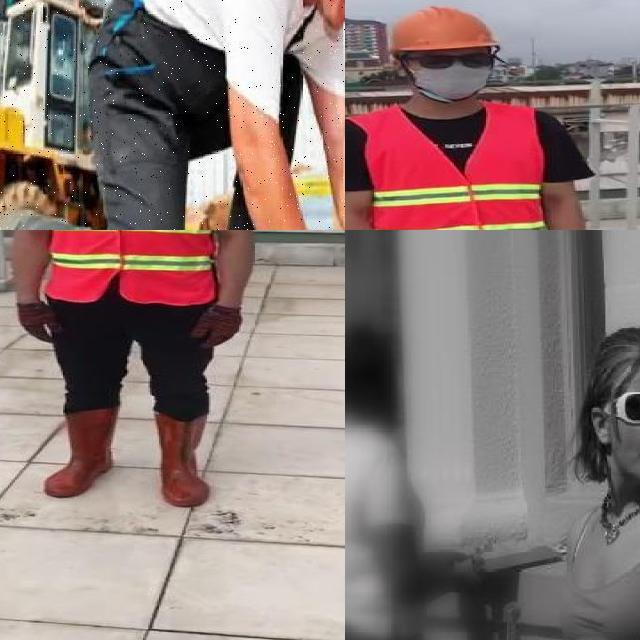boots: (44, 409, 124, 497), (154, 410, 218, 507)
face_mask: (408, 46, 497, 102)
face_nomask: (606, 388, 640, 470)
glasses: (408, 46, 506, 78), (601, 390, 640, 427)
hand_glove: (191, 309, 241, 349), (17, 301, 63, 342)
head_helmet: (382, 3, 499, 56)
head_nohelmet: (587, 324, 640, 388)
person: (0, 0, 345, 230), (0, 230, 264, 507), (345, 0, 598, 230), (546, 320, 640, 640)
vest: (360, 105, 559, 230), (39, 230, 219, 307)
